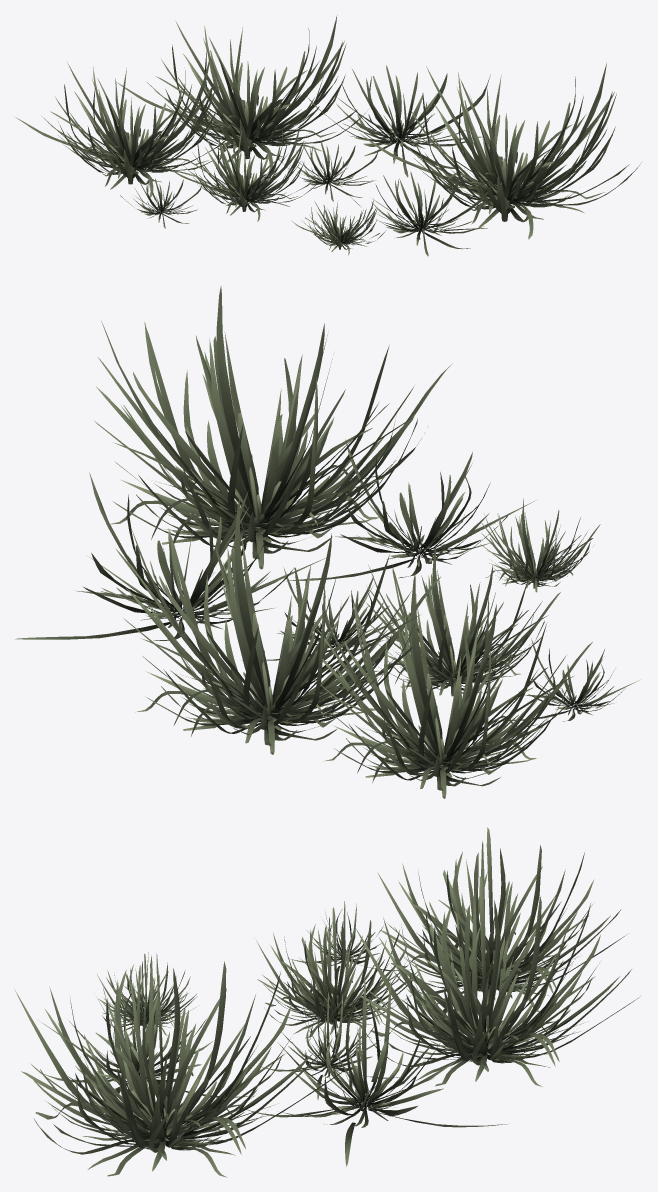
File: grass3.fbx
3 renders of one model, top to bottom at view 1: azimuth 30°, elevation 25°; view 2: azimuth 150°, elevation 25°; view 3: azimuth 270°, elevation 25°, orthographic. The views are drawn at different scales.
Visible parts, largest first — view 1: GS Dryland clump high; view 2: GS Dryland clump high; view 3: GS Dryland clump high.
Part boxes in pixels (x1,y1,x2,y2): GS Dryland clump high: (15,15,641,256); GS Dryland clump high: (15,286,639,798); GS Dryland clump high: (14,827,640,1177).
Bounding box in the file's own units: 48.9 × 14.86 × 47.28.
